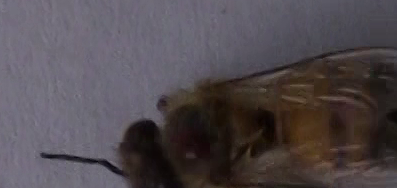Varroa destructor: (178, 132, 219, 165)
